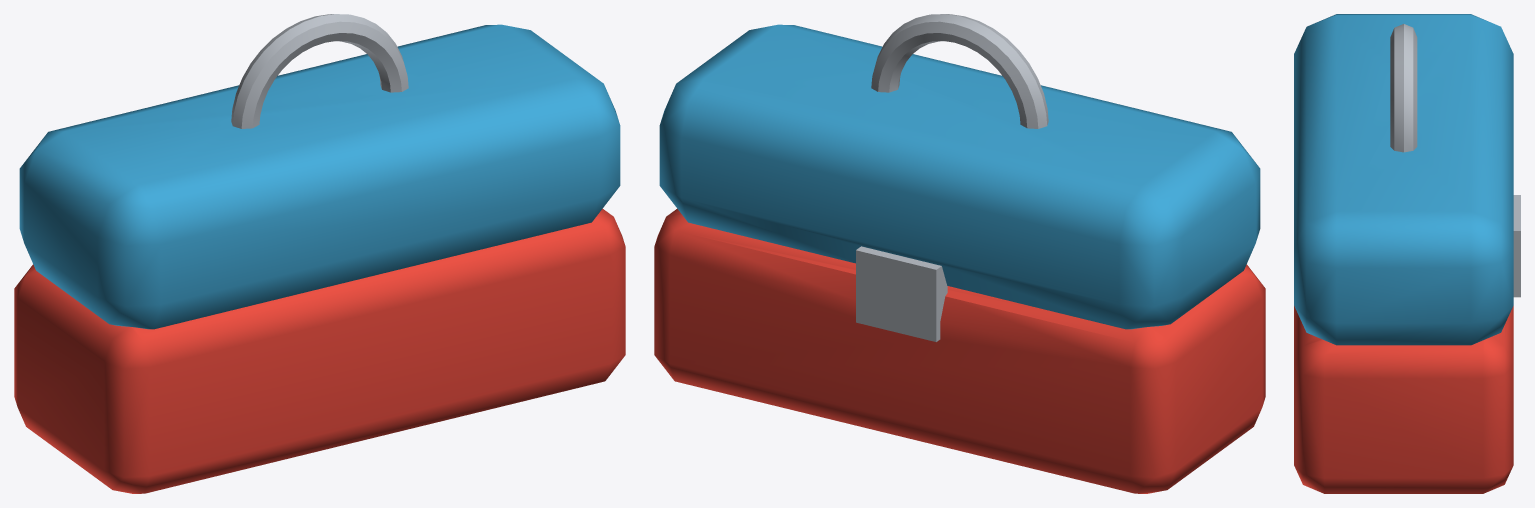
File: lunchbox.glb
3 views of the same model, side by side, from view 1: azimuth 30°, elevation 25°; view 2: azimuth 150°, elevation 25°; view 3: azimuth 270°, elevation 25° (orthographic). The views are drawn at different scales.
Parts seen in each view (by area): view 1: lunchbox; view 2: lunchbox; view 3: lunchbox.
Part boxes in pixels (bbox=[...]): lunchbox: bbox=[14, 14, 625, 493]; lunchbox: bbox=[654, 14, 1265, 493]; lunchbox: bbox=[1294, 14, 1520, 493].
Bounding box in the file's own units: 0.09 × 0.0647 × 0.0372.
